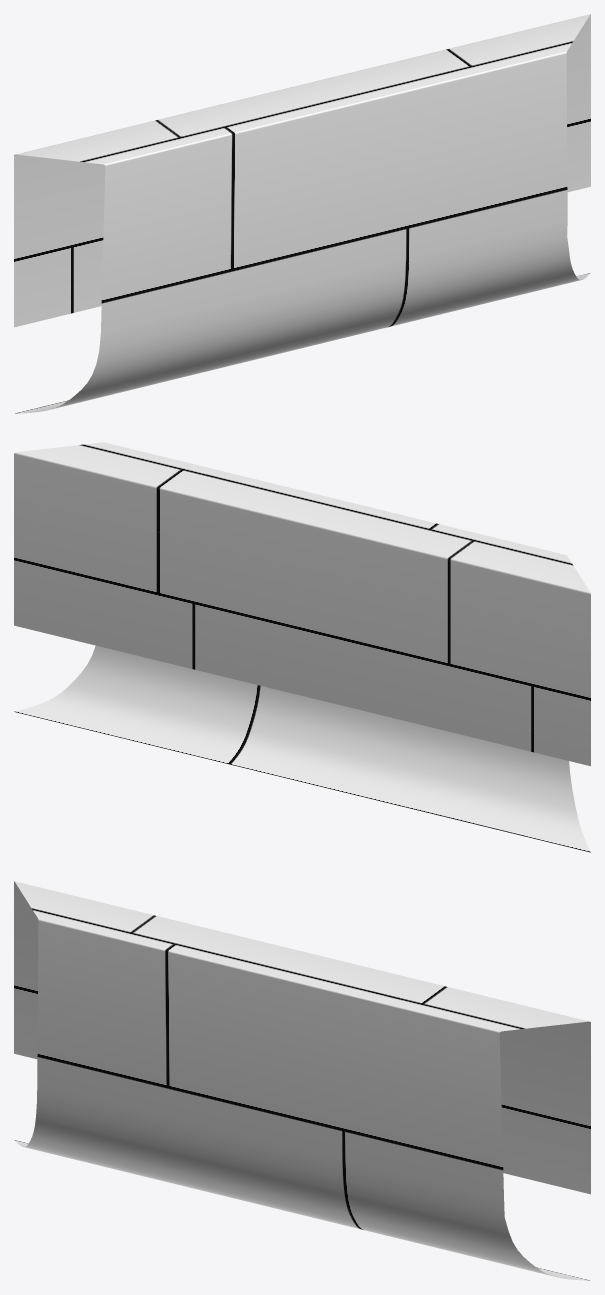
Rendered from Parapet01_350cmAngle5.FBX.
3 renders of one model, top to bottom at view 1: azimuth 30°, elevation 25°; view 2: azimuth 150°, elevation 25°; view 3: azimuth 330°, elevation 25°, orthographic.
Parts seen in each view (by area): view 1: Parapet01_350cmAngle5; view 2: Parapet01_350cmAngle5; view 3: Parapet01_350cmAngle5.
Boxes of the visible parts, x1,y1,x2,y2 form: Parapet01_350cmAngle5: (14,14,590,413); Parapet01_350cmAngle5: (14,442,590,852); Parapet01_350cmAngle5: (14,881,590,1280).
Bounding box in the file's own units: 350 × 150 × 35.13.
